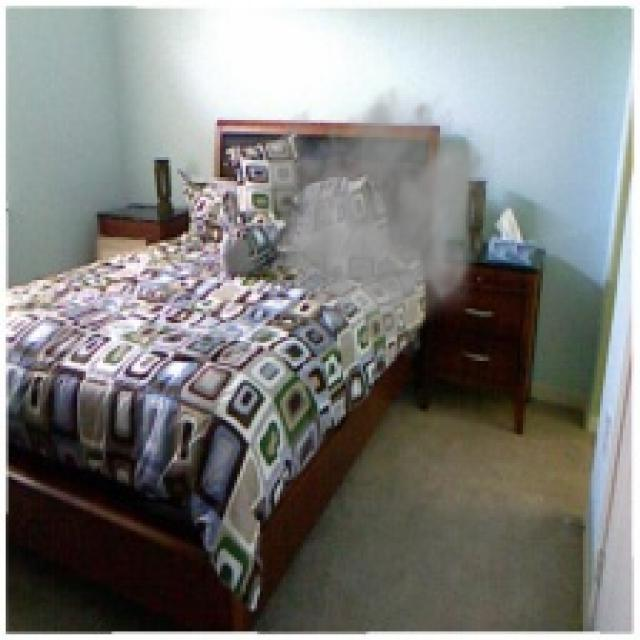smoke: (246, 83, 494, 363)
